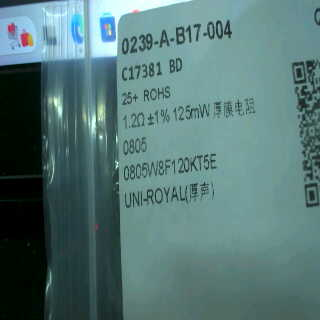1.2R: (121, 108, 148, 156)
